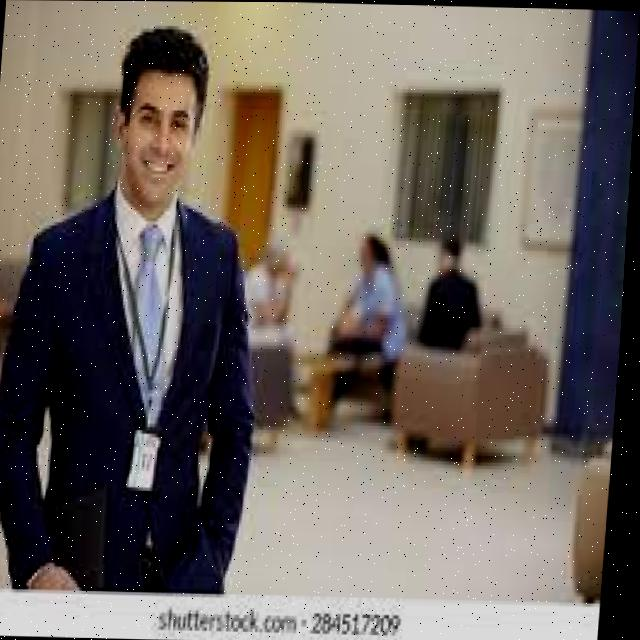id_card: (96, 205, 198, 503)
